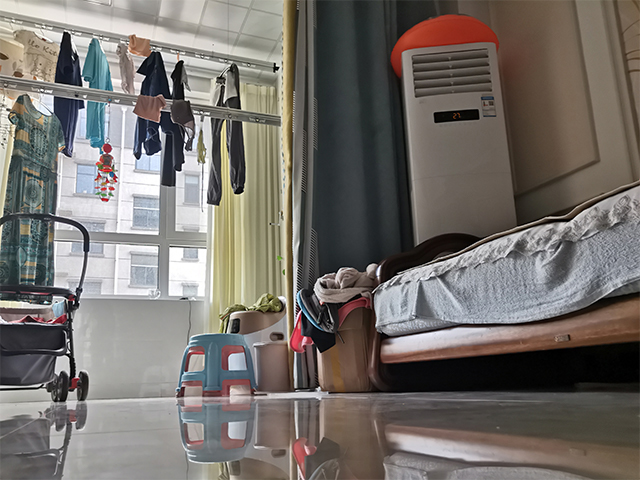curtain: (295, 2, 400, 272)
sofa: (310, 176, 640, 394)
stool: (172, 330, 260, 399)
